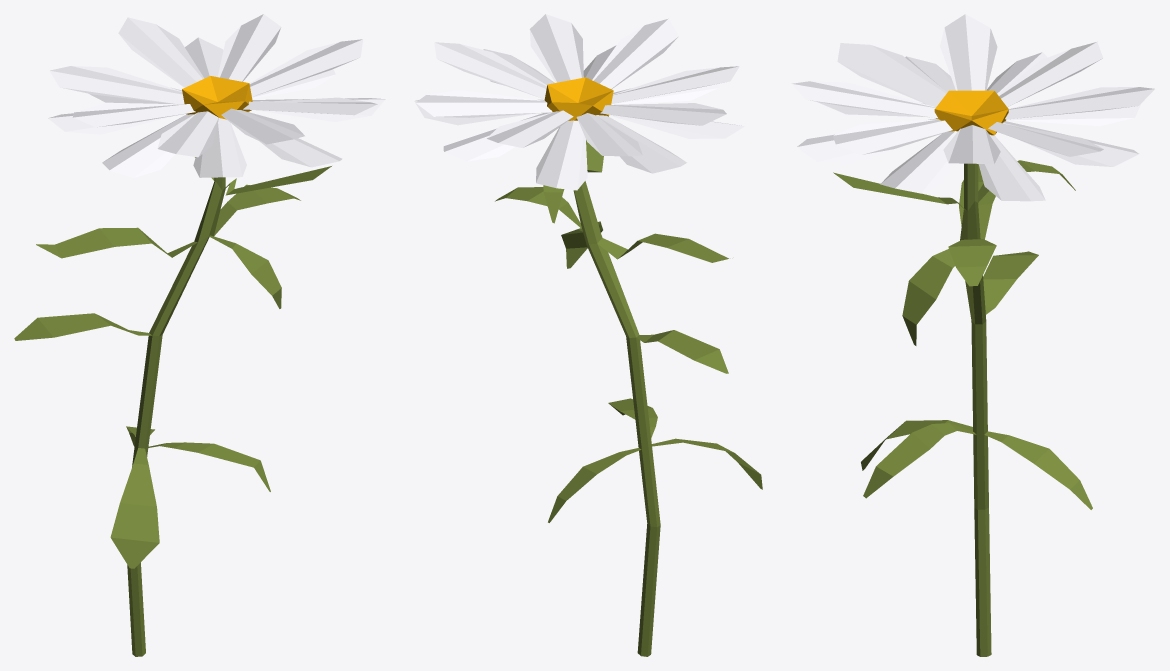
The model's file is flower.glb.
The picture shows the model from 3 angles, left to right: view 1: azimuth 30°, elevation 25°; view 2: azimuth 150°, elevation 25°; view 3: azimuth 270°, elevation 25°; orthographic projection. The views are drawn at different scales.
Visible parts, largest first — view 1: margarita flower; view 2: margarita flower; view 3: margarita flower.
Part boxes in pixels (<box>): margarita flower: <box>14,14,385,656</box>; margarita flower: <box>414,14,762,656</box>; margarita flower: <box>791,14,1154,656</box>.
Bounding box in the file's own units: 1.06 × 1.76 × 0.9596.
